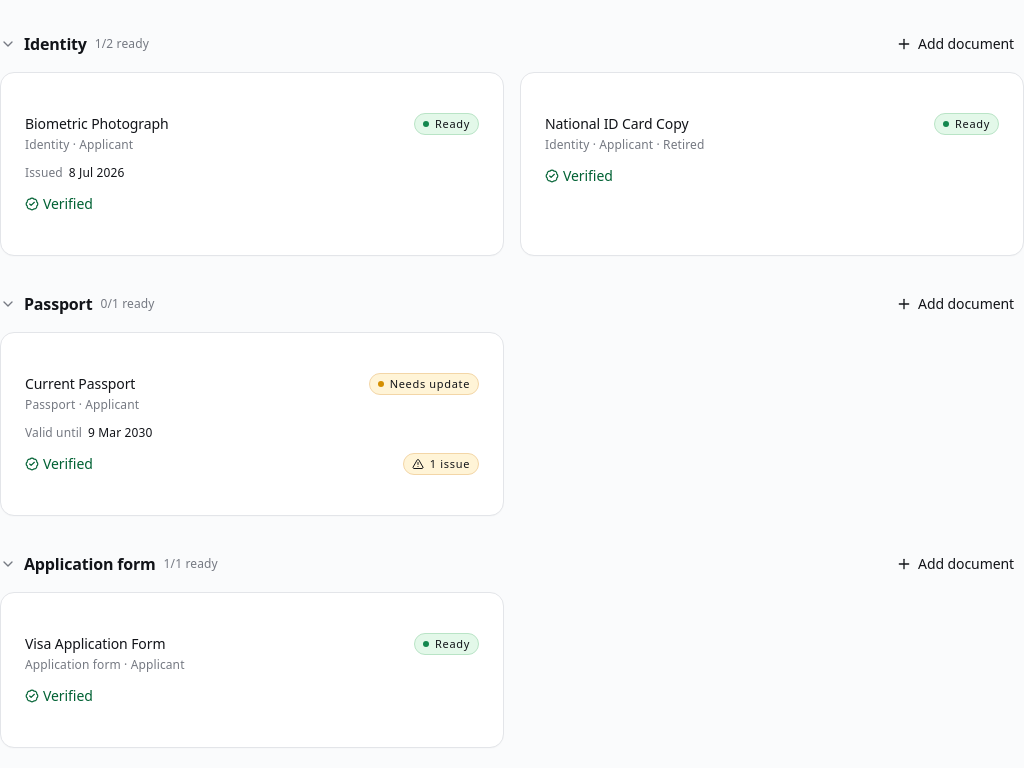
Scenario: Documents workspace — a superseded completion claim › explains the change without disputing the document or its status
This screenshot has width=1024, height=768.
(page scrolled)
Click the button "Current Passport": (80, 384) [25,373,135,395]
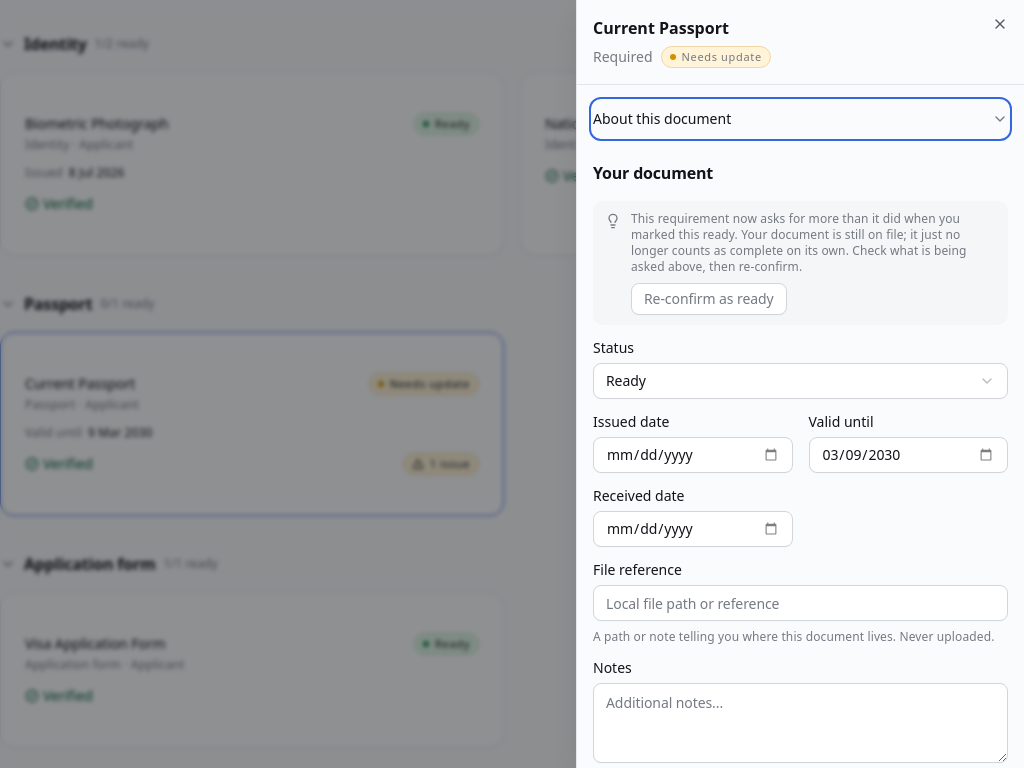
Check: the text "This requirement now asks for more than it did when you marked this ready. Your document is still on file; it just no longer counts as complete on its own. Chec" is shown, box [631,210,967,275]
Check: the dropdown named "Status" reads "Ready", box [593,363,1008,399]
